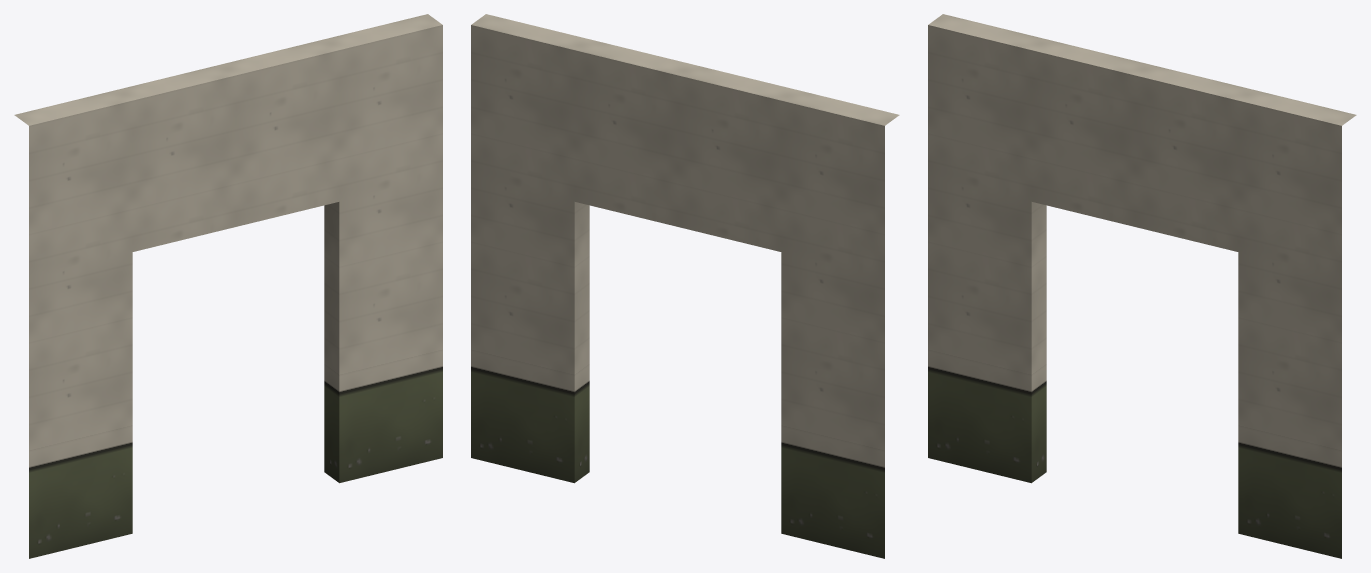
Rendered from wall_bunker_blast.glb.
3 renders of one model, left to right at view 1: azimuth 30°, elevation 25°; view 2: azimuth 150°, elevation 25°; view 3: azimuth 330°, elevation 25°, orthographic.
Visible parts, largest first — view 1: wall_bunker_blast; view 2: wall_bunker_blast; view 3: wall_bunker_blast.
Part boxes in pixels (x1,y1,x2,y2): wall_bunker_blast: (14, 14, 442, 558); wall_bunker_blast: (471, 14, 899, 558); wall_bunker_blast: (928, 14, 1356, 558).
Size of the model in its own units: 4 by 4 by 0.25.
Materials: 1 (1 with a texture image).
